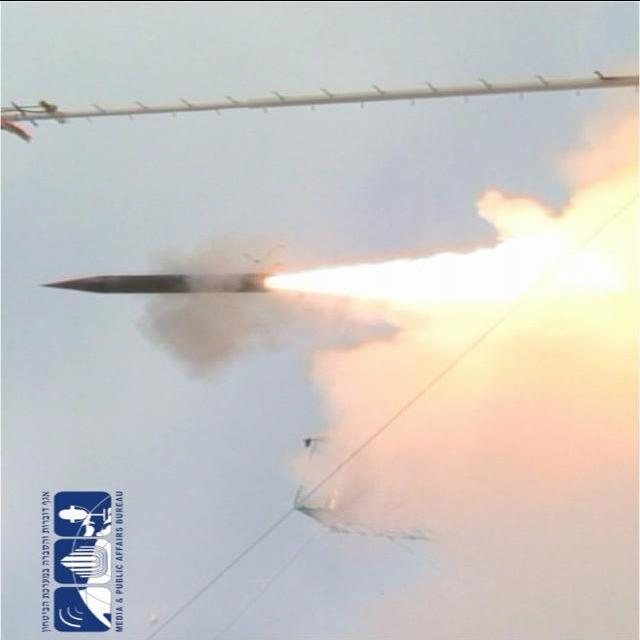missile: (37, 264, 272, 310)
